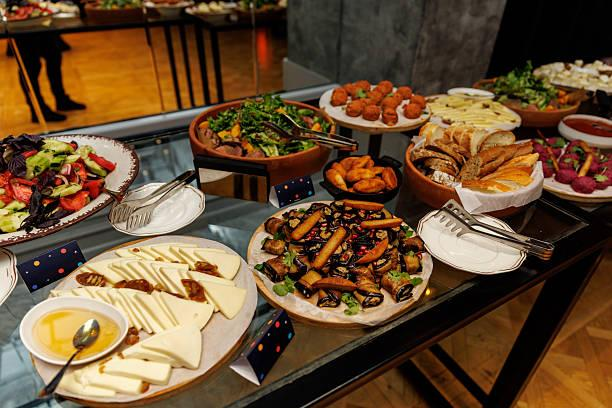Braised Crucian Carp: (30, 236, 253, 405), (246, 200, 431, 326), (0, 133, 139, 250), (192, 99, 336, 189), (450, 142, 544, 213), (319, 85, 429, 133), (539, 138, 610, 203)
